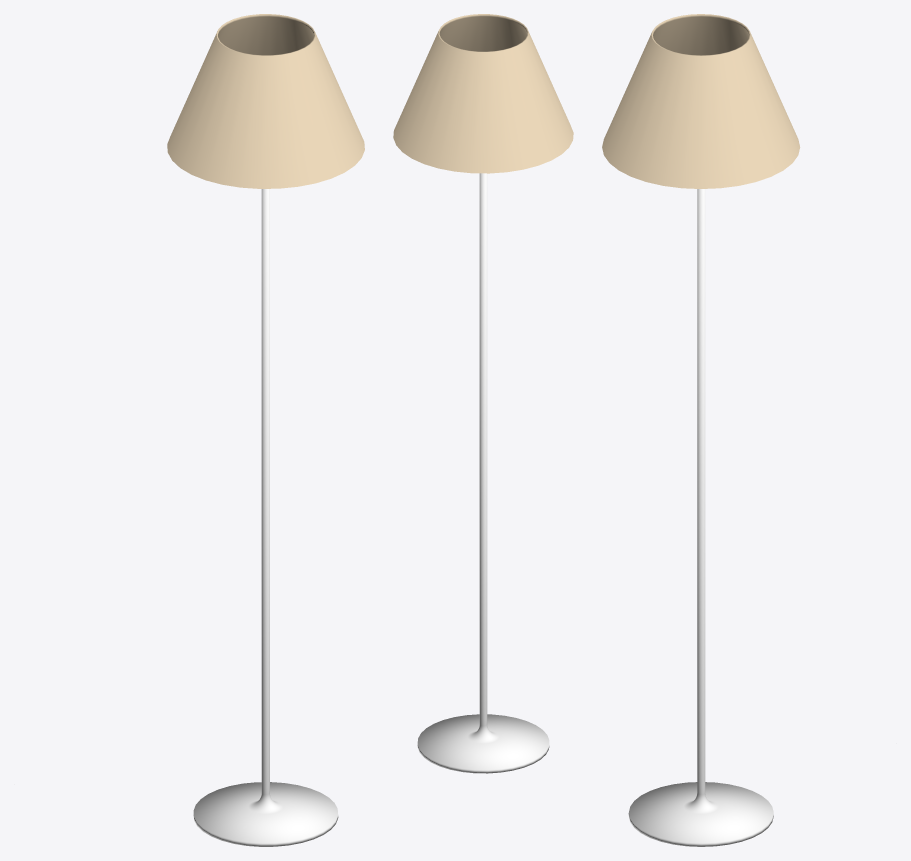
File: Lamp Model.fbx
3 renders of one model, left to right at view 1: azimuth 30°, elevation 25°; view 2: azimuth 150°, elevation 25°; view 3: azimuth 270°, elevation 25°, orthographic. The views are drawn at different scales.
Parts seen in each view (by area): view 1: Lampshade, Lamp_base; view 2: Lampshade, Lamp_base; view 3: Lampshade, Lamp_base.
Part boxes in pixels (x1,y1,x2,y2): Lampshade: (167,14,364,188); Lamp_base: (193,189,338,846); Lampshade: (393,14,573,173); Lamp_base: (417,173,549,773); Lampshade: (602,14,800,188); Lamp_base: (628,189,773,846).
Bounding box in the file's own units: 44.79 × 140 × 47.61.
